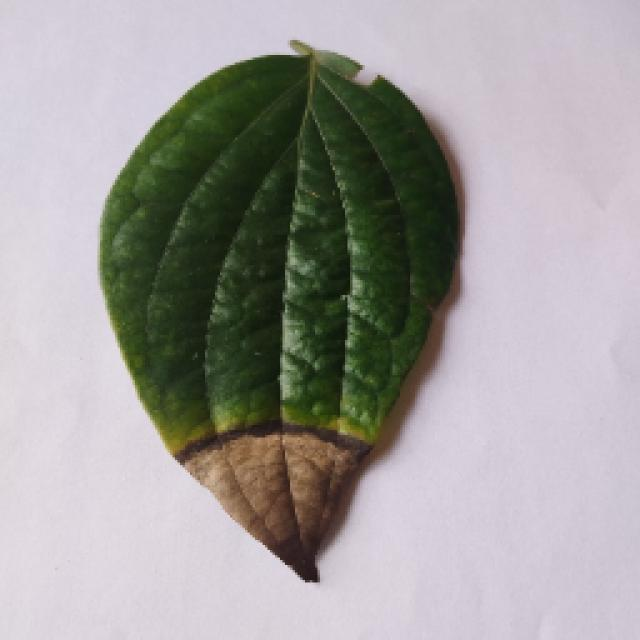footrot: (95, 42, 460, 580)
